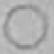no answer: (3, 0, 50, 54)
